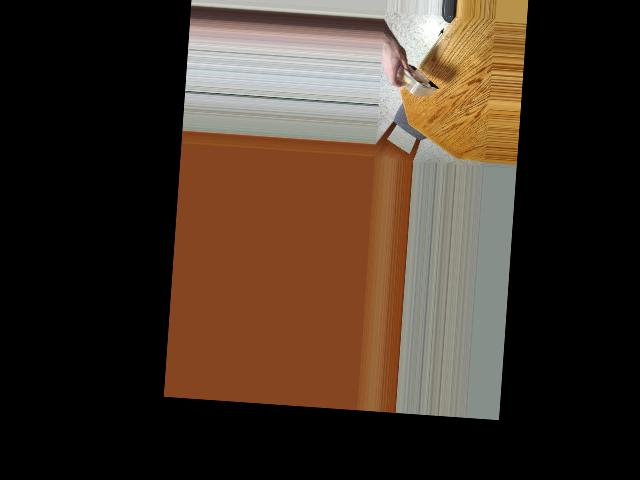cheese: (389, 47, 437, 103)
